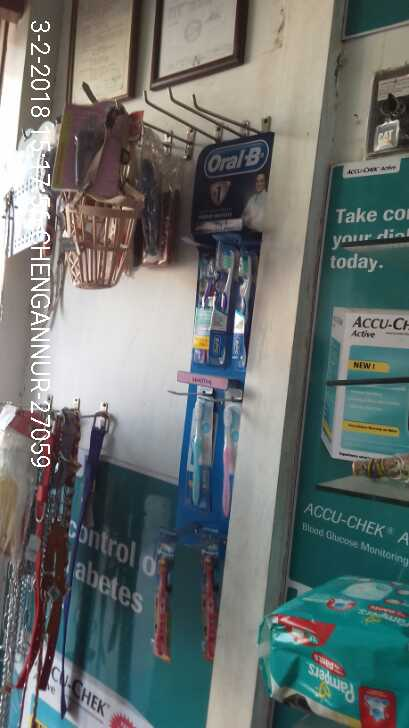pharmacy: (256, 563, 405, 728), (185, 385, 213, 506), (233, 249, 255, 366), (215, 247, 235, 370)
